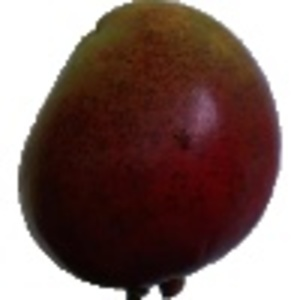manga: (18, 1, 283, 300)
